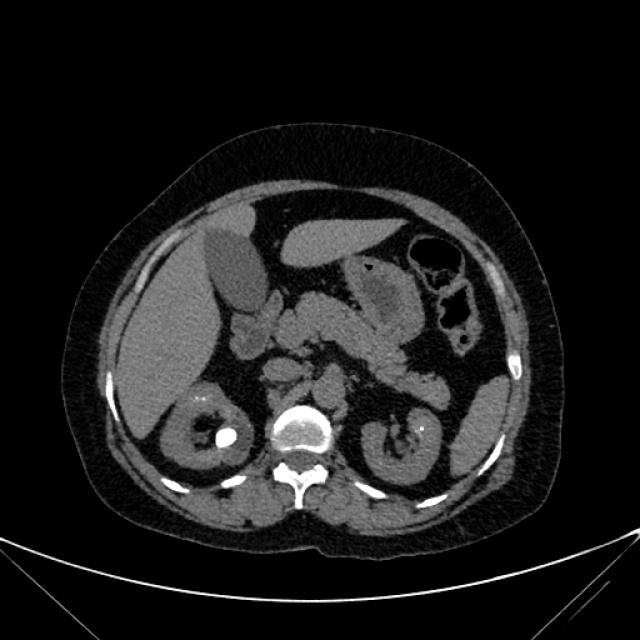kidney: (175, 390, 246, 469), (368, 421, 432, 478)
stone: (218, 430, 233, 446), (194, 396, 198, 401), (420, 426, 424, 431), (201, 396, 205, 400)
